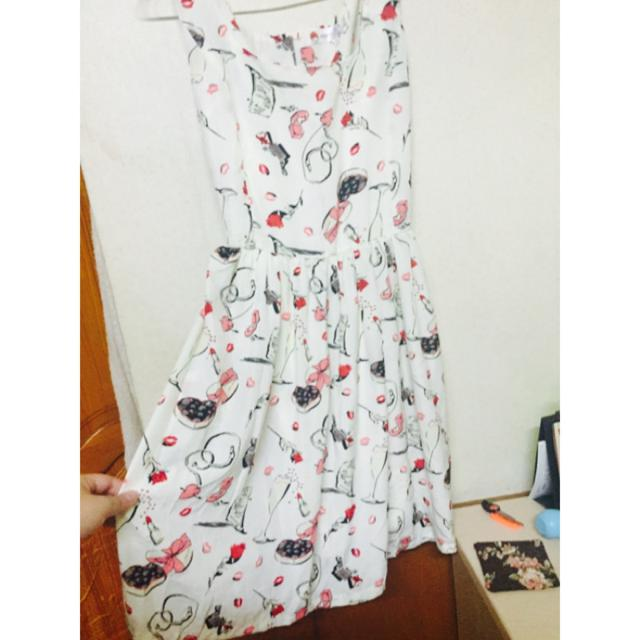Dresses: (121, 4, 462, 640)
